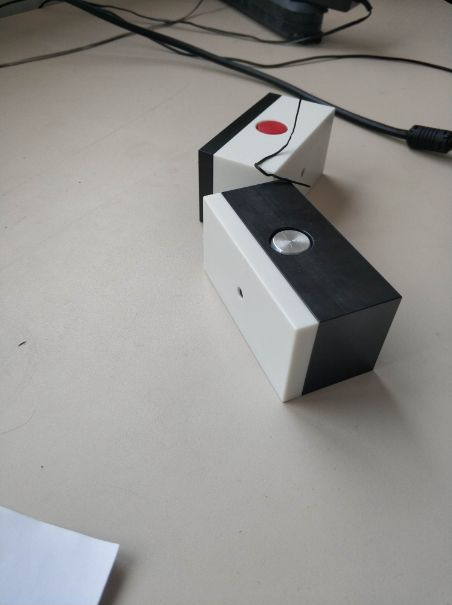black+white+red: (194, 91, 340, 224)
white+black+silver: (201, 177, 404, 404)
